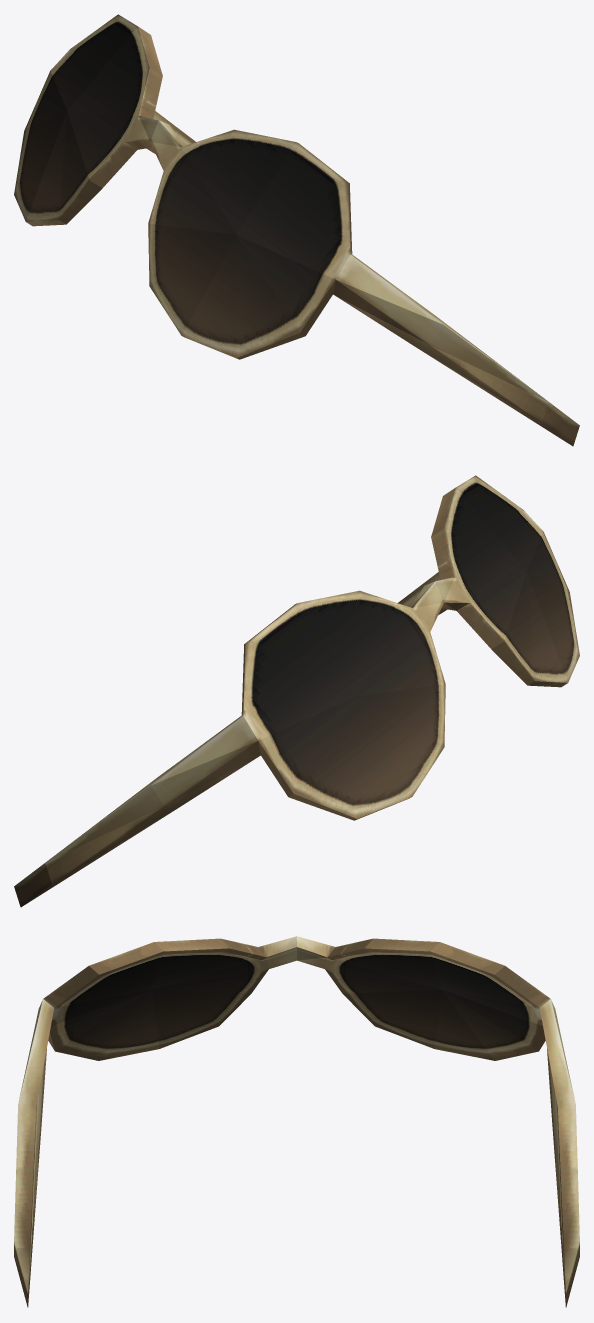
Rendered from Wolf_summerGlasses.obj.
3 renders of one model, top to bottom at view 1: azimuth 30°, elevation 25°; view 2: azimuth 150°, elevation 25°; view 3: azimuth 270°, elevation 25°, orthographic. The views are drawn at different scales.
Parts seen in each view (by area): view 1: Wolf_summerGlasses_tri; view 2: Wolf_summerGlasses_tri; view 3: Wolf_summerGlasses_tri.
Boxes of the visible parts, box(x1,y1,x2,y2) form: Wolf_summerGlasses_tri: box(14, 14, 579, 446); Wolf_summerGlasses_tri: box(14, 475, 579, 907); Wolf_summerGlasses_tri: box(14, 936, 579, 1307).
Size of the model in its own units: 0.1189 by 0.1055 by 0.1967.
1 material, 1 textured.
